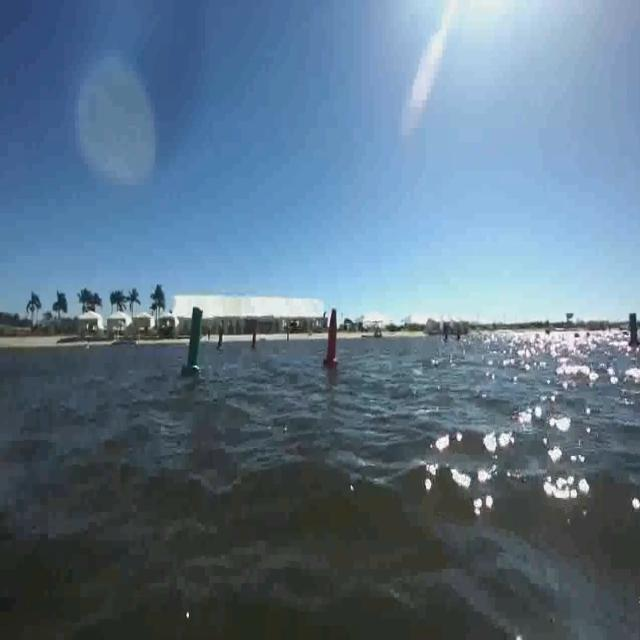green-column-buoy: (182, 305, 206, 376), (626, 312, 640, 349)
red-column-buoy: (322, 309, 340, 369)
